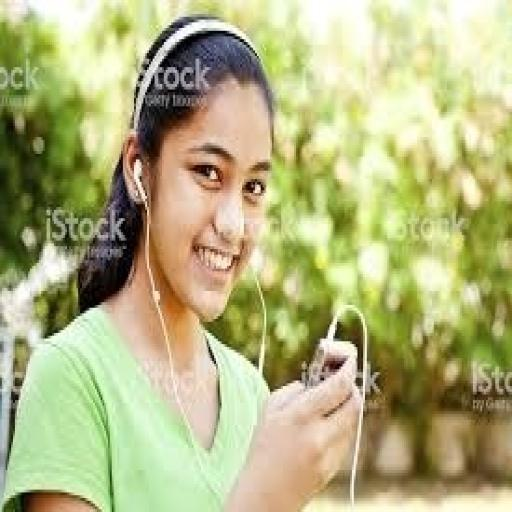listening_to_music: (0, 11, 365, 509)
